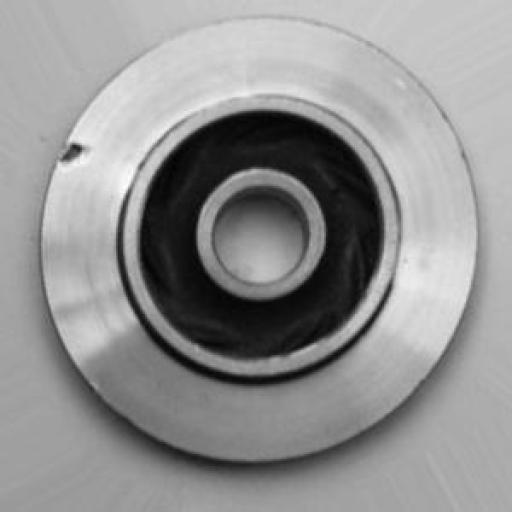defect: (42, 122, 102, 186)
